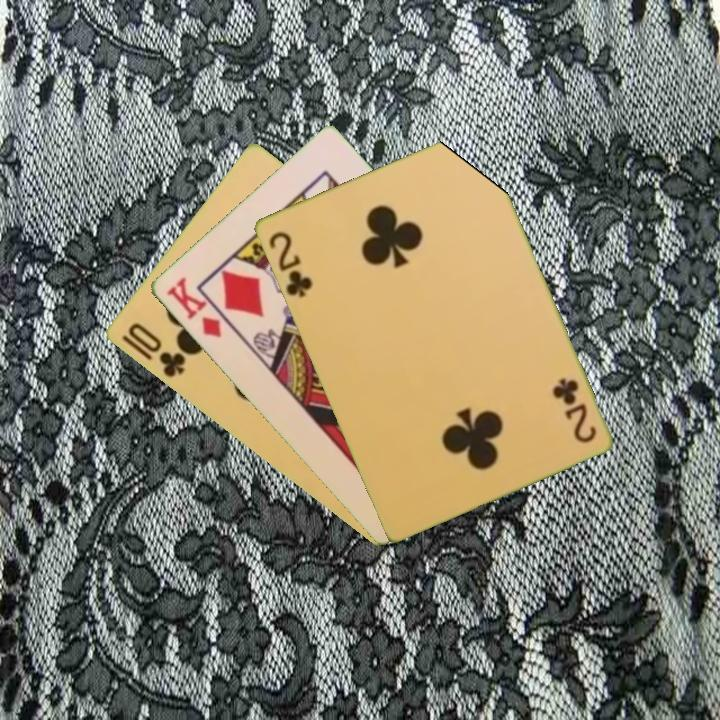10c: (117, 319, 188, 381)
2c: (264, 227, 315, 301), (549, 374, 599, 446)
Kd: (162, 273, 224, 341)
